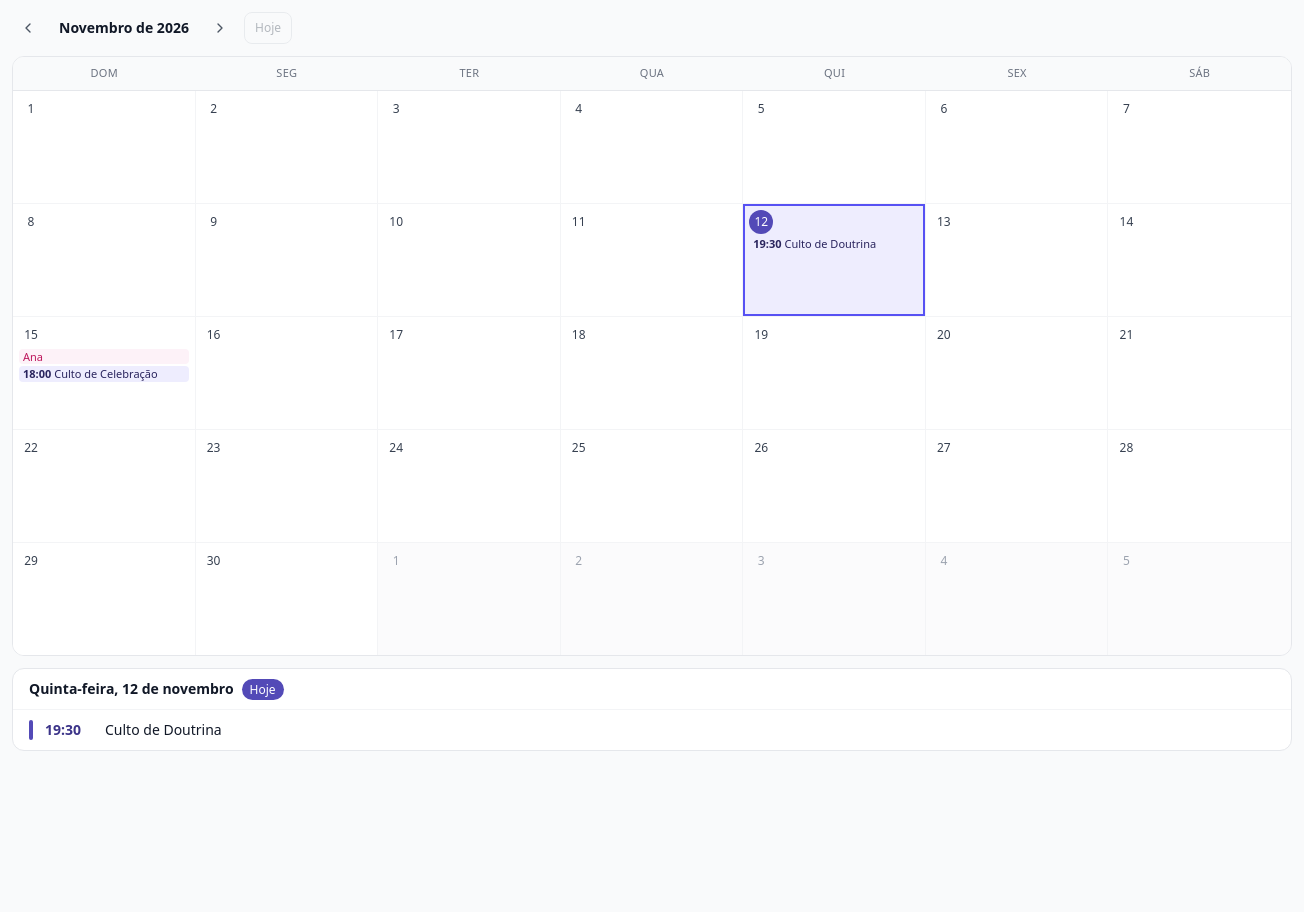
Test: CalendarioMensal › ao clicar num dia, mostra os itens daquele dia em ordem de horário
Click the cell named "15 de novembro, 2 itens": (104, 372) [13,316,196,428]
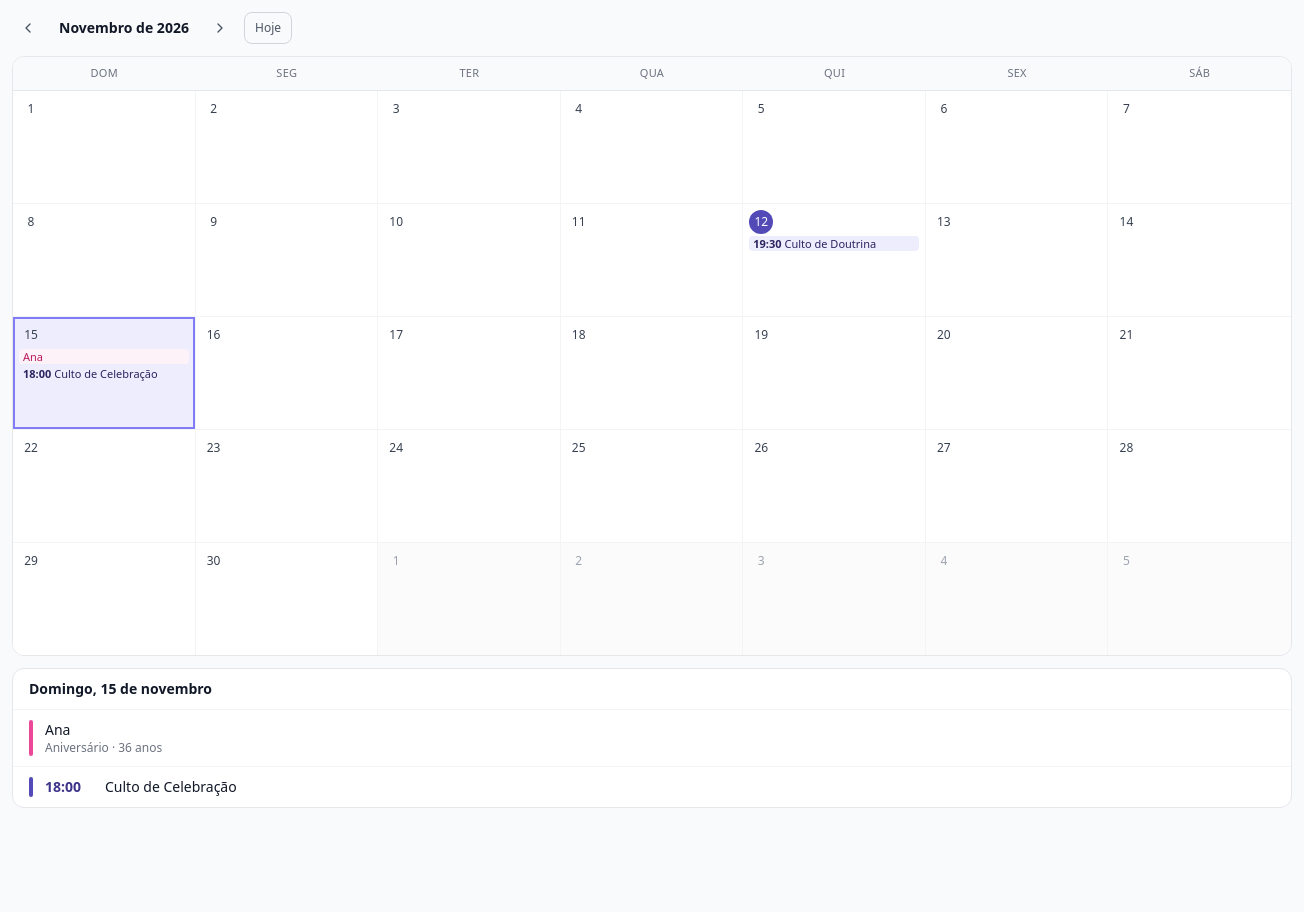
Now the text "Domingo, 15 de novembro" is shown, box [29,678,212,698]
Now the text "Aniversário · 36 anos" is shown, box [45,738,162,756]
